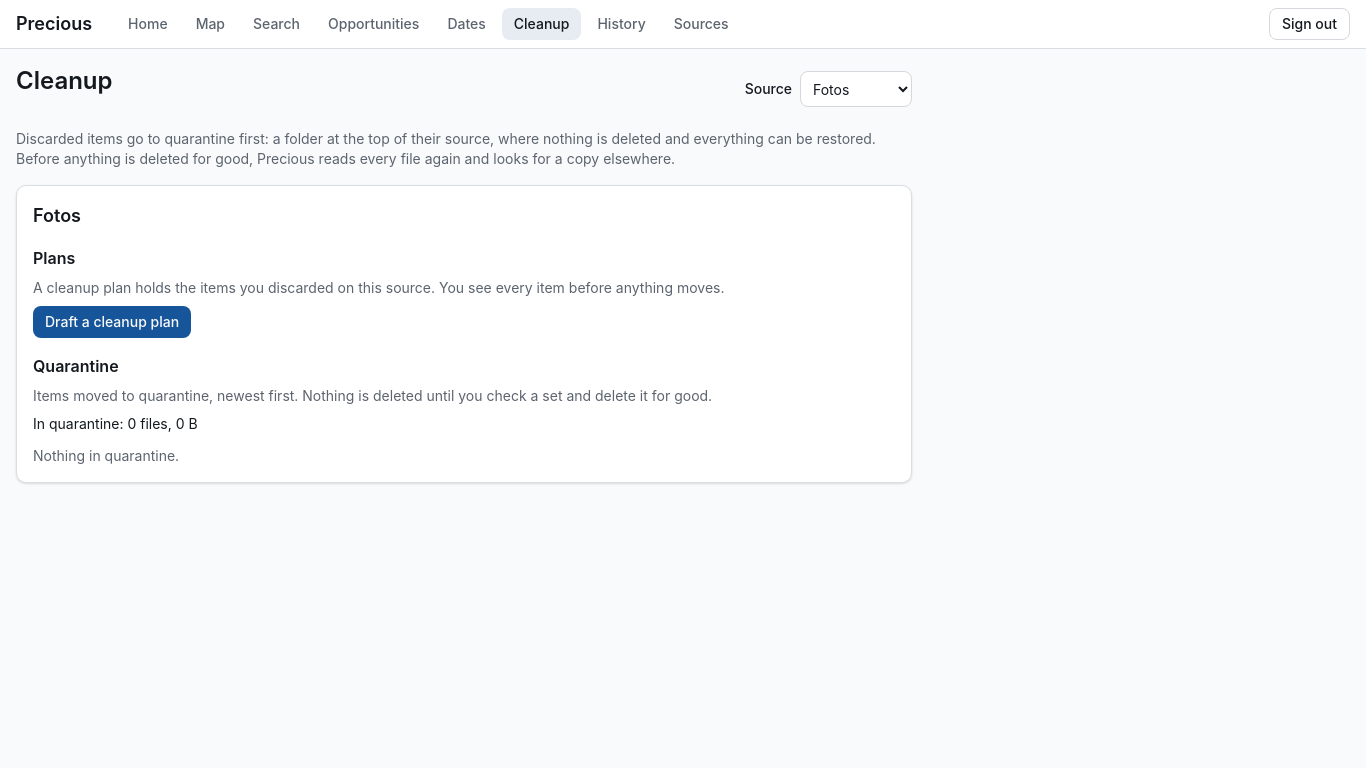
it: Cleanup plans › closing the preview runs nothing
Click the button "Draft a cleanup plan".
click(112, 322)  # box [33,306,191,338]
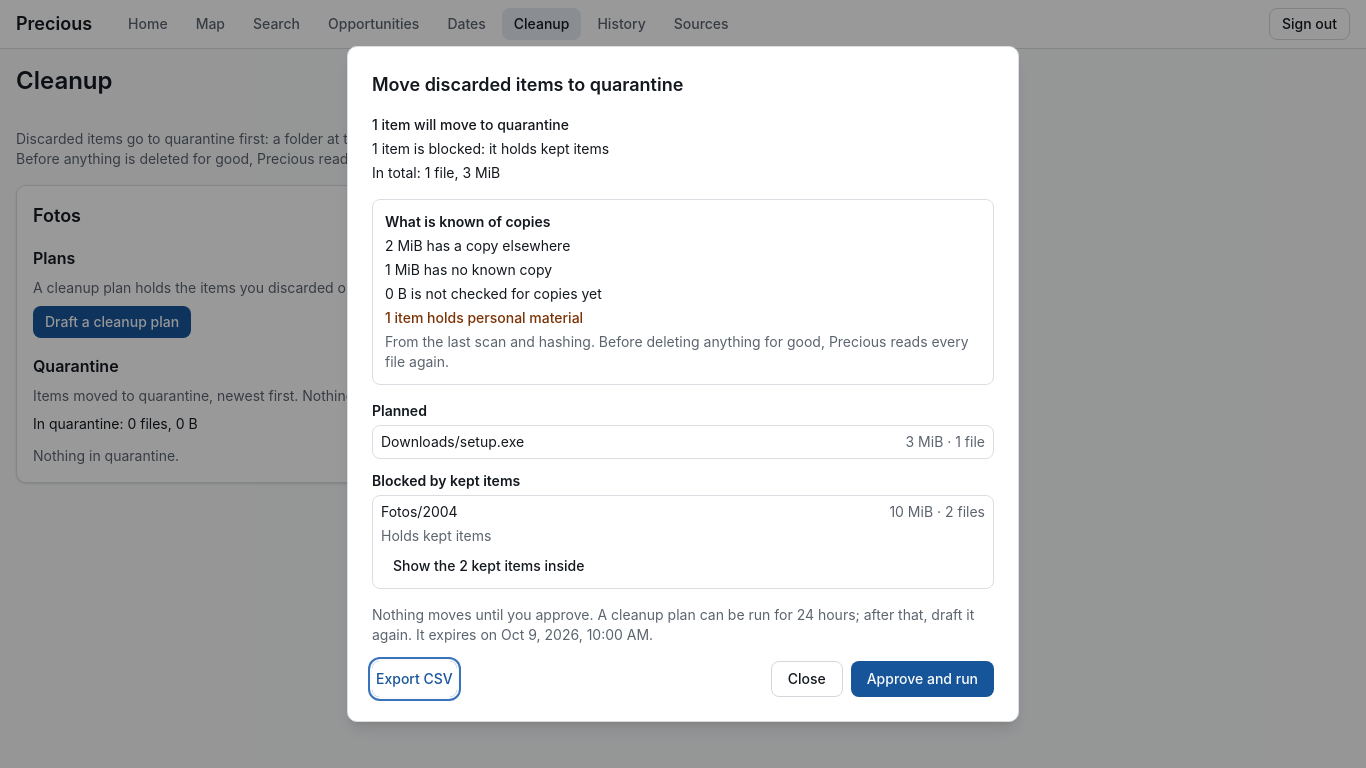
Click the button "Close".
click(807, 679)  # box [771,661,843,697]
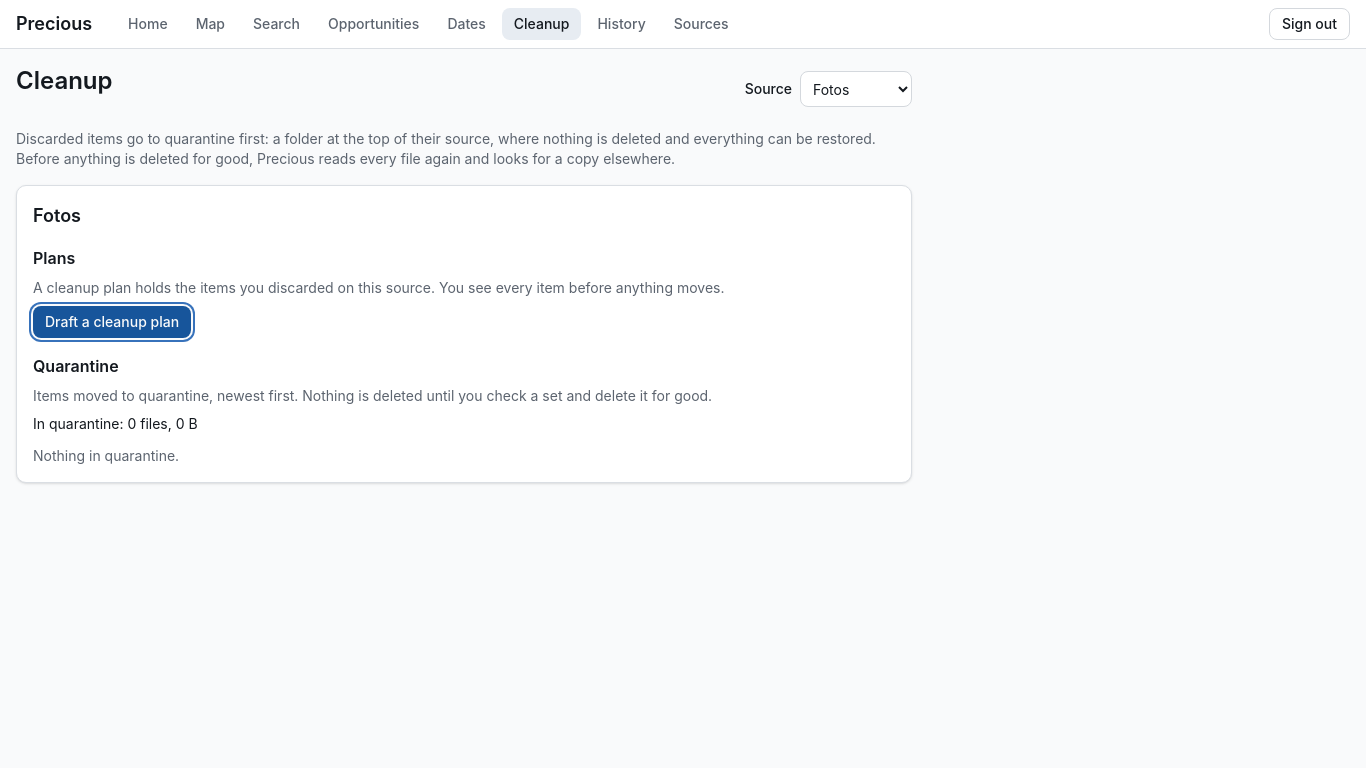
Check: the dialog is gone
